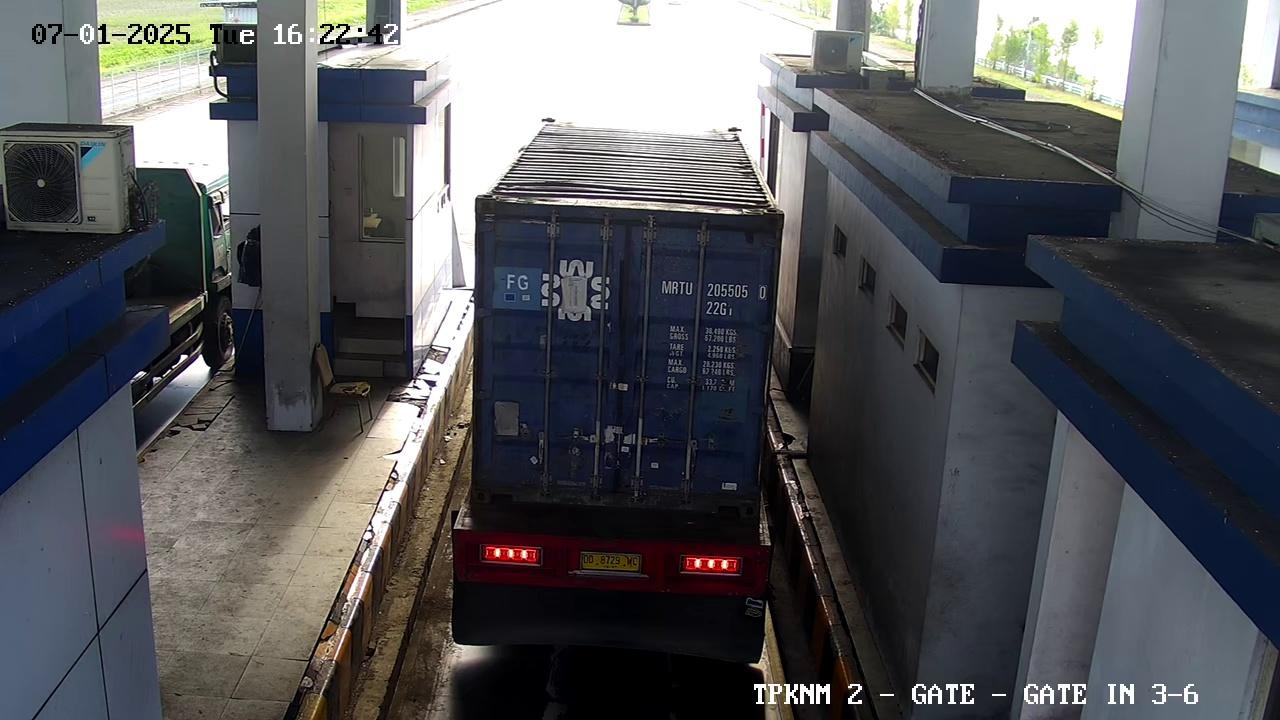Container_ID: (646, 272, 780, 325)
plate_number: (572, 542, 646, 581)
